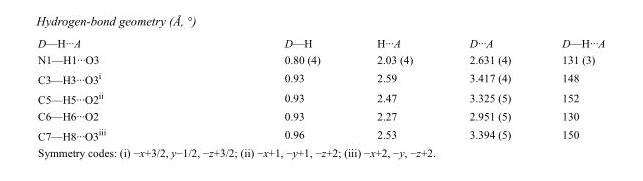table: (37, 36, 604, 141)
table column: (37, 36, 194, 141), (194, 36, 347, 141), (440, 36, 535, 141), (347, 36, 440, 141), (535, 36, 604, 141)
table row: (37, 67, 604, 87), (37, 87, 604, 107), (37, 50, 604, 67), (37, 107, 604, 124), (37, 124, 604, 141), (37, 36, 604, 50)
